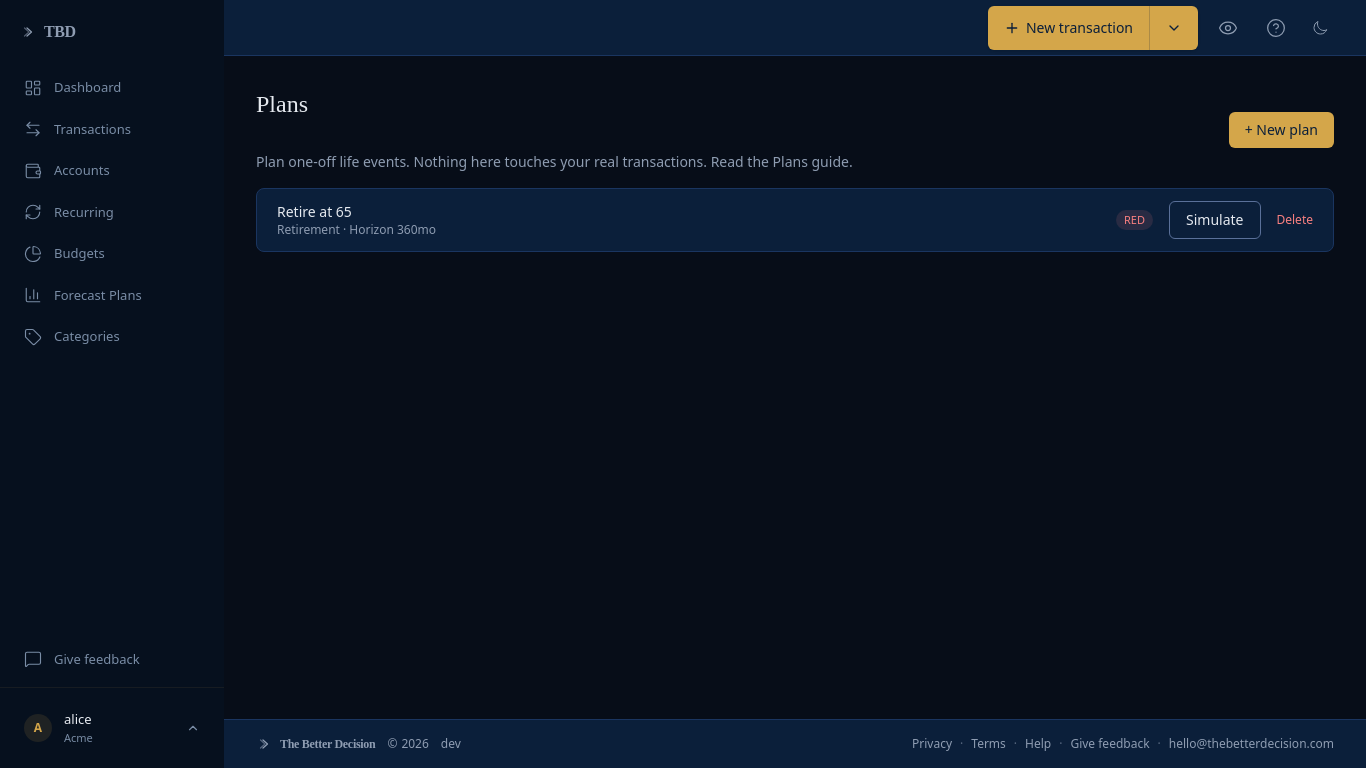
Test: /plans page › renders the retirement form with target date and curve editor
Check: the text "Retire at 65" is shown, box [277,202,352,221]
Click the button "Retire at 65 Retirement · Horizon 360mo": (314, 212) [277,202,1100,238]
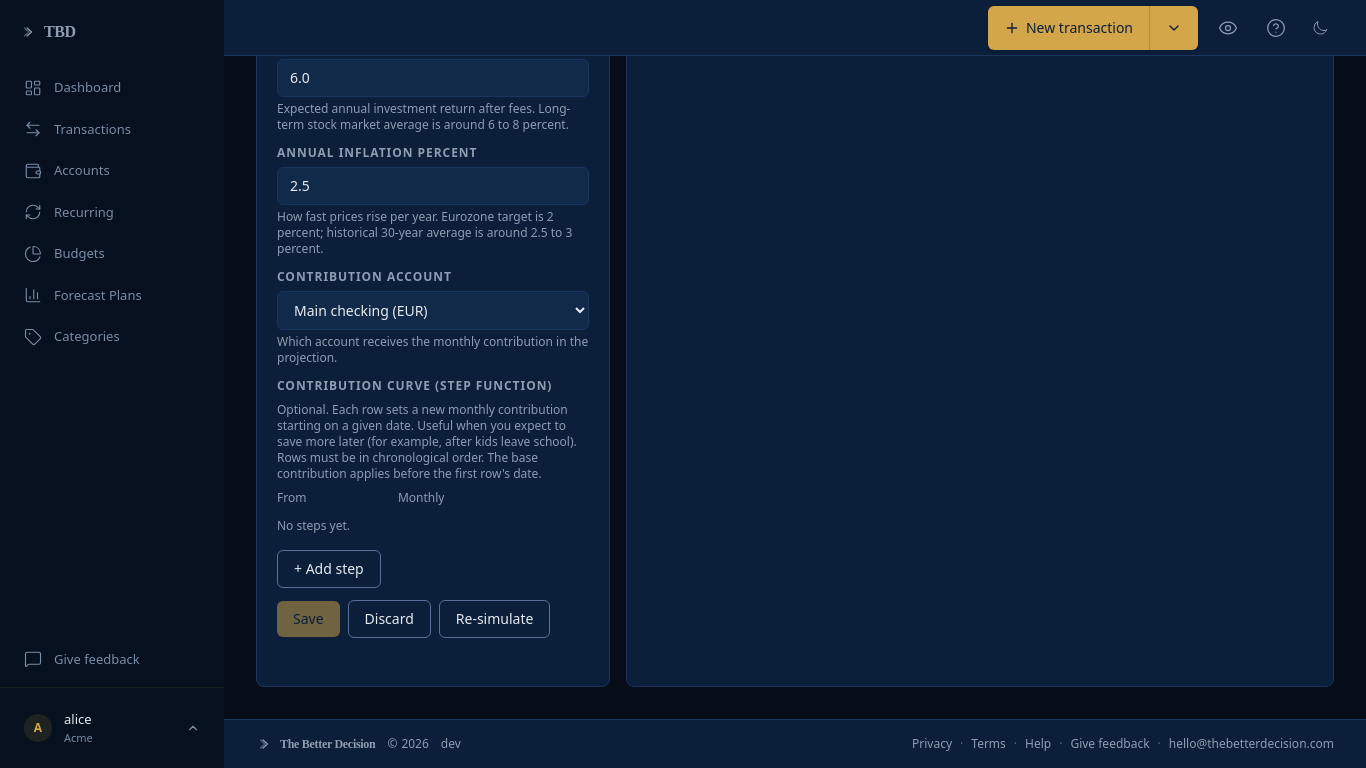
Check: the table with test id "ret-curve-table" is shown, box [277,490,589,542]
Check: the button with test id "ret-curve-add" is shown, box [277,550,381,588]
